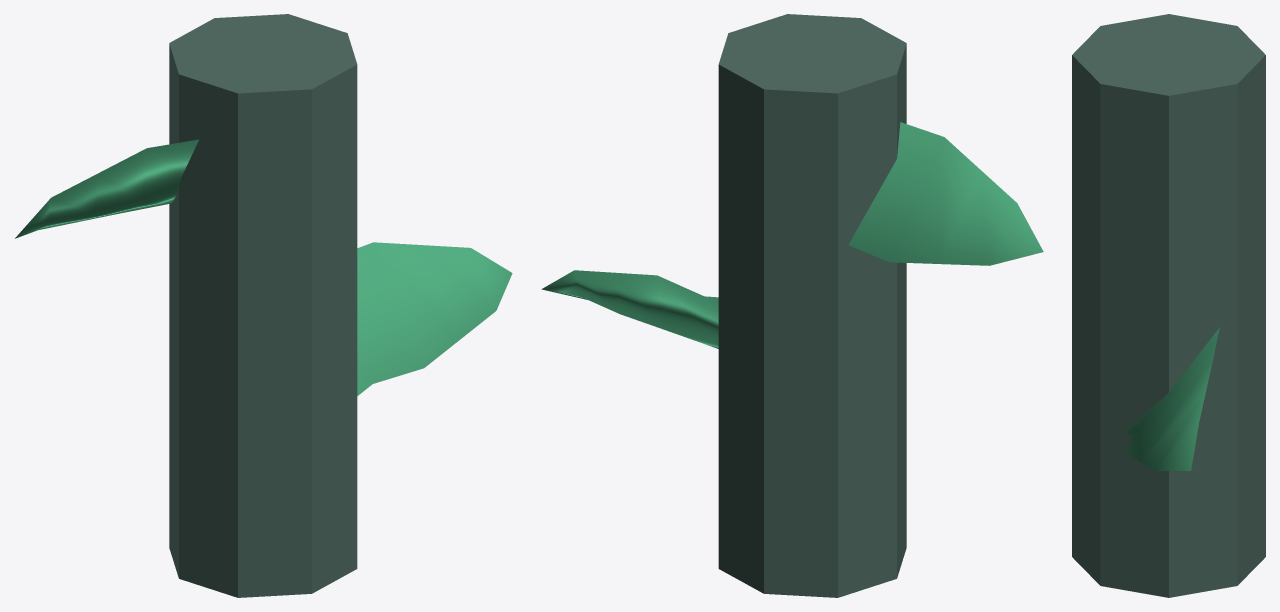
File: vinePiece1.fbx
3 views of the same model, side by side, from view 1: azimuth 30°, elevation 25°; view 2: azimuth 150°, elevation 25°; view 3: azimuth 270°, elevation 25° (orthographic).
Visible parts, largest first — view 1: pPyramid4; view 2: pPyramid4; view 3: pPyramid4.
Part boxes in pixels (box(x1,y1,x2,y2)): pPyramid4: box(15, 14, 512, 597); pPyramid4: box(541, 14, 1043, 597); pPyramid4: box(1072, 14, 1265, 597).
Bounding box in the file's own units: 0.2113 × 0.2035 × 0.0712.
